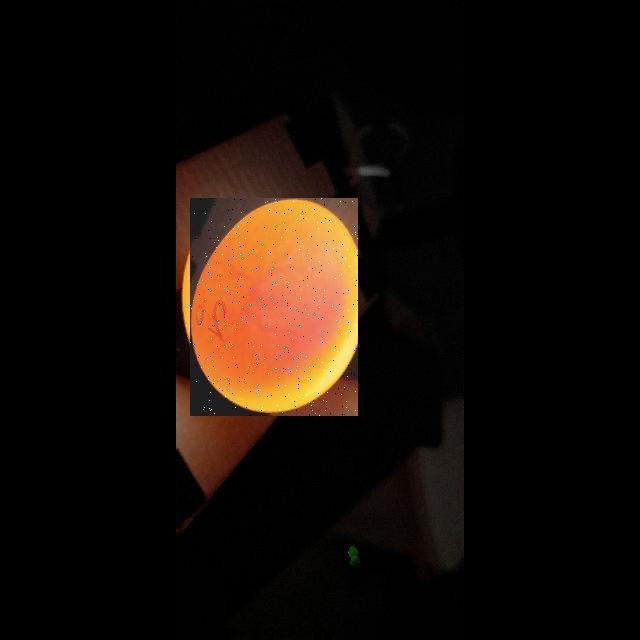Fertile: (190, 198, 358, 416)
